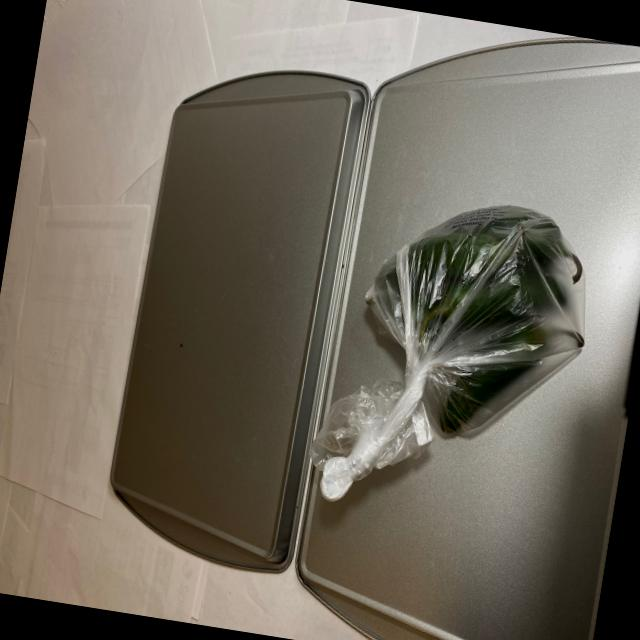chilli: (350, 186, 606, 452)
